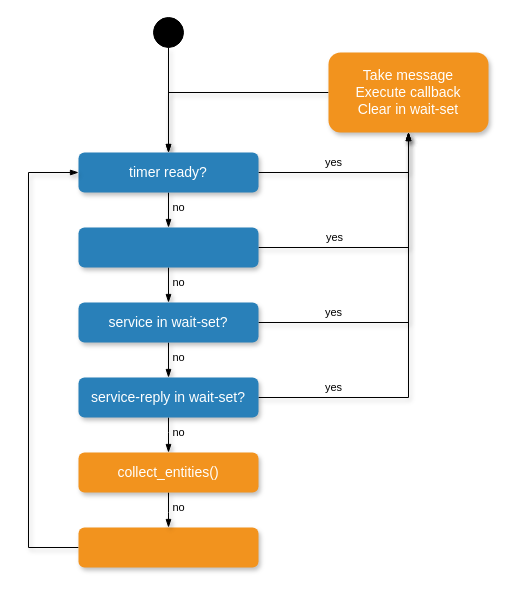
Some shapes in this 512 by 592 pixel diagram are drawn without their labels. The shapes that lost their labels are listed below. From the top down, each one's centre as x and y in pixels, then its label:
point (169, 248): topic in wait-set?
point (169, 548): rmw_wait()
